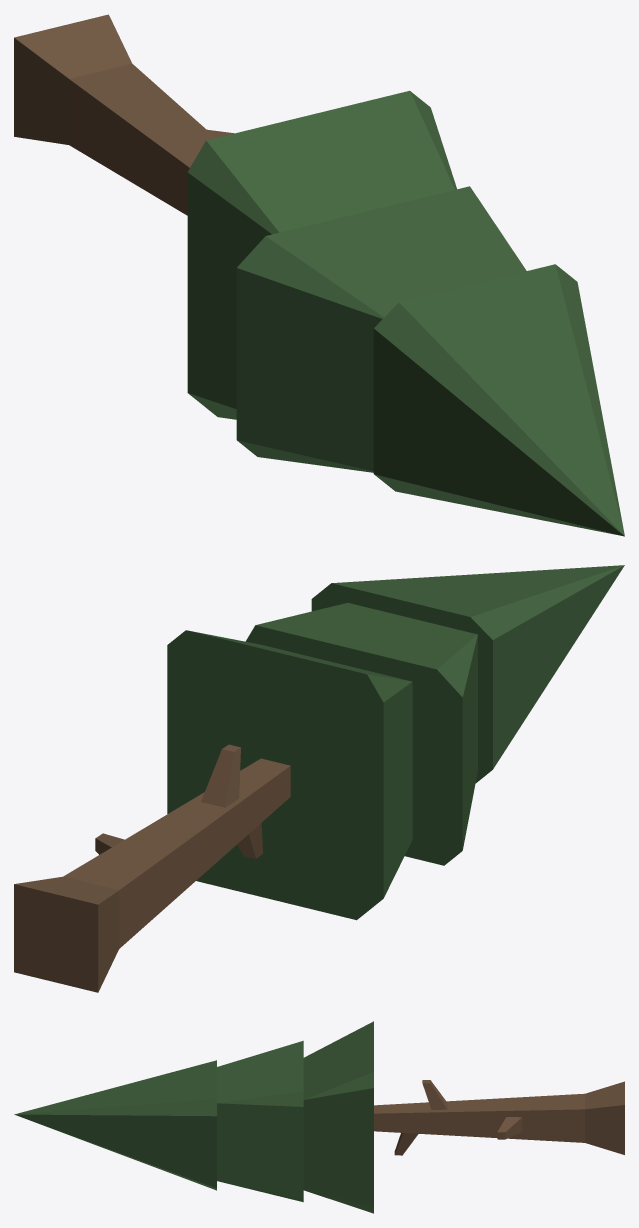
File: tree-model-pine-tall-48-ft.obj
3 renders of one model, top to bottom at view 1: azimuth 30°, elevation 25°; view 2: azimuth 150°, elevation 25°; view 3: azimuth 270°, elevation 25°, orthographic. The views are drawn at different scales.
Parts seen in each view (by area): view 1: tree-model-pine-tall-48-ft; view 2: tree-model-pine-tall-48-ft; view 3: tree-model-pine-tall-48-ft.
Part boxes in pixels (bbox=[...]): tree-model-pine-tall-48-ft: bbox=[14, 14, 624, 536]; tree-model-pine-tall-48-ft: bbox=[14, 565, 624, 992]; tree-model-pine-tall-48-ft: bbox=[14, 1021, 624, 1213].
Bounding box in the file's own units: 145 × 148 × 576.
